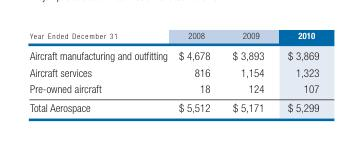table: (28, 29, 318, 113)
table column: (28, 29, 172, 113), (220, 29, 275, 113), (172, 29, 220, 113), (275, 29, 318, 113)
table column header: (28, 29, 318, 44)
table row: (28, 44, 318, 63), (28, 63, 318, 80), (28, 80, 318, 97), (28, 97, 318, 113), (28, 29, 318, 44)
